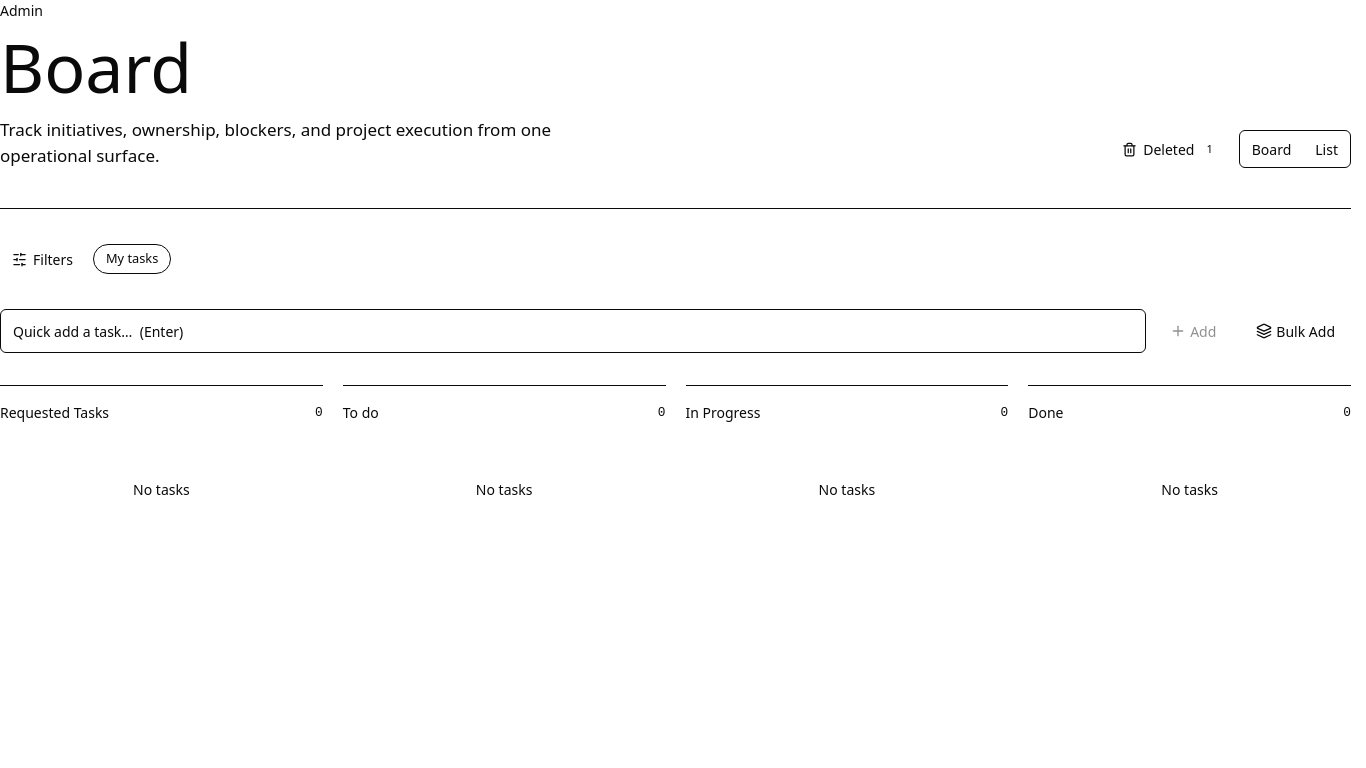
Test: shows the recycle bin with the deleted task count
Click the button "Deleted 1": (1171, 149) [1110,131,1231,167]
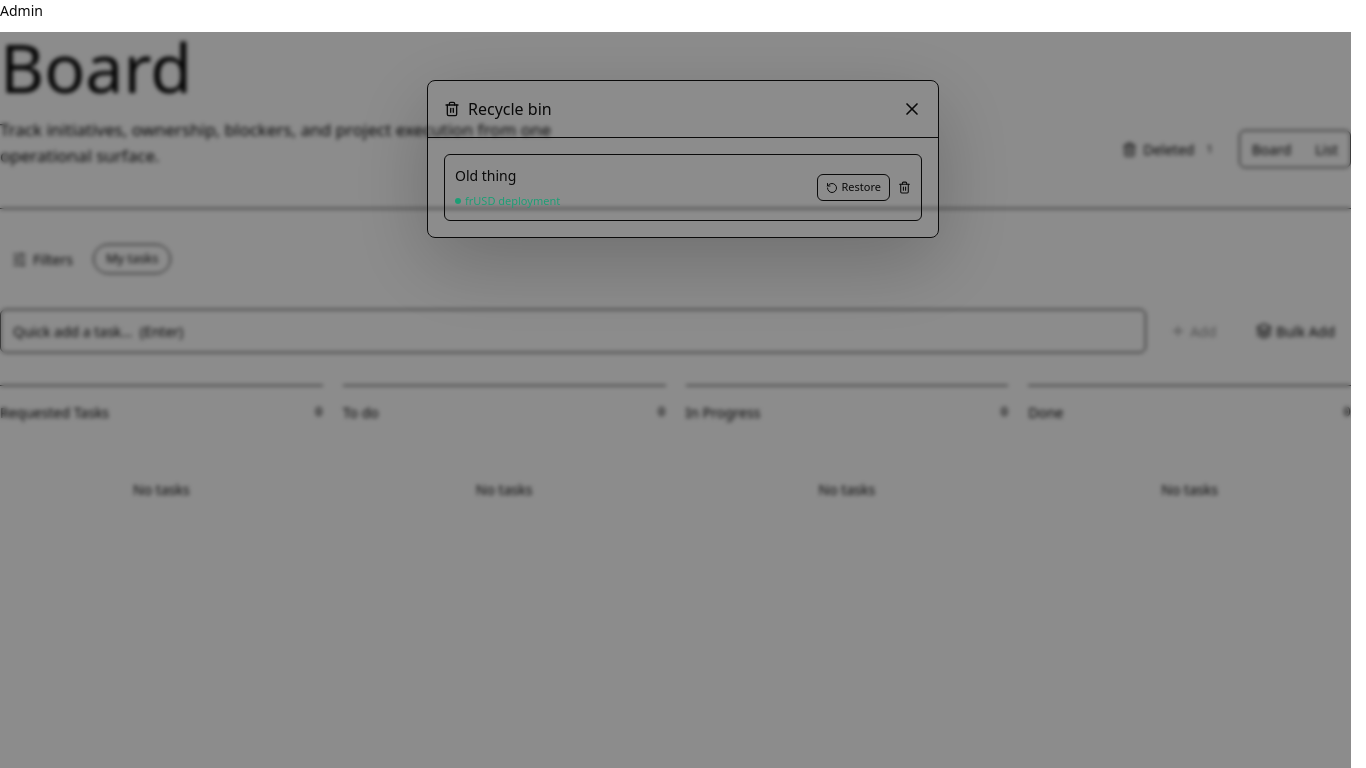
Check: the text "Old thing" is shown, box [455,166,516,185]
